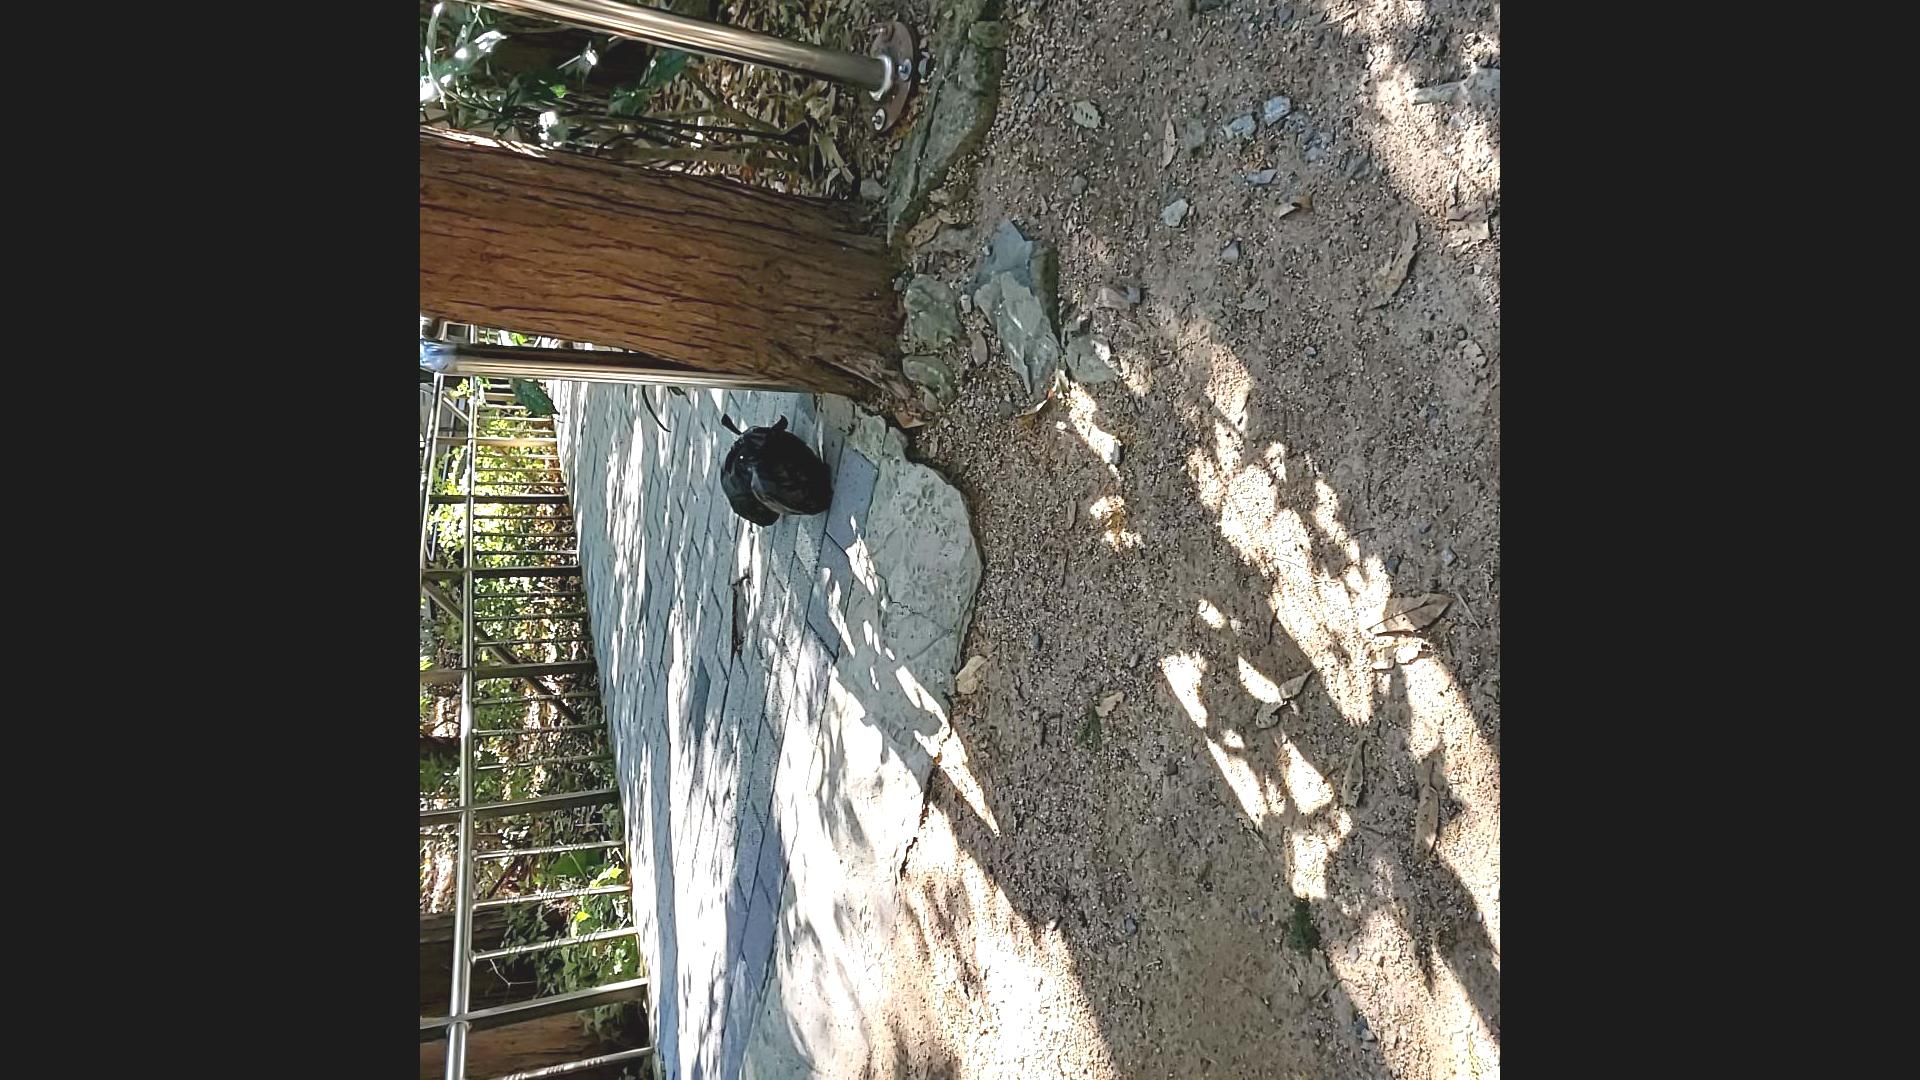black_bag: (716, 407, 837, 531)
